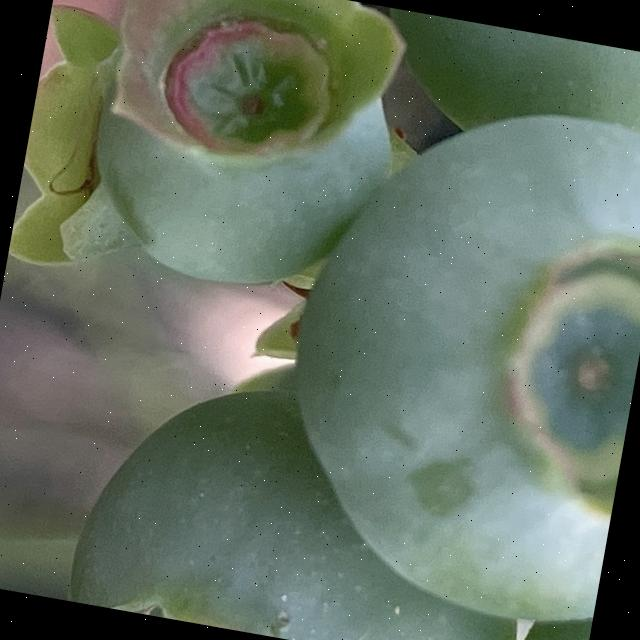Blueberries: (237, 60, 640, 640), (50, 0, 430, 328)
